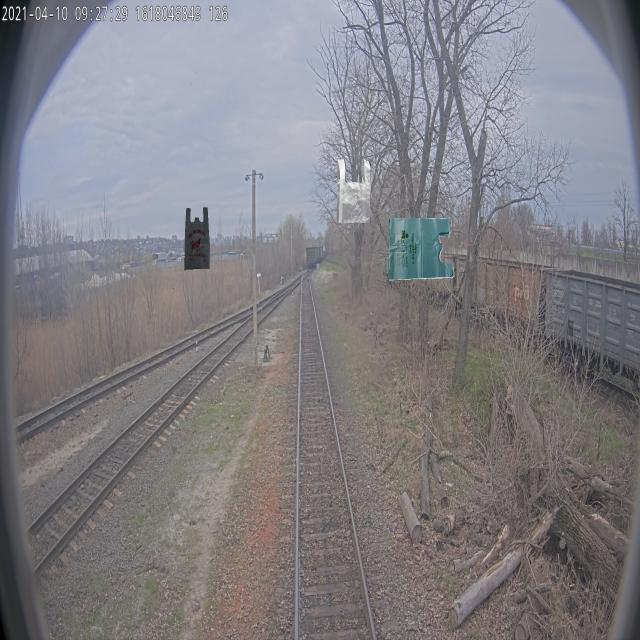plastic bag: (388, 217, 454, 280), (337, 159, 371, 223), (184, 206, 210, 270)
